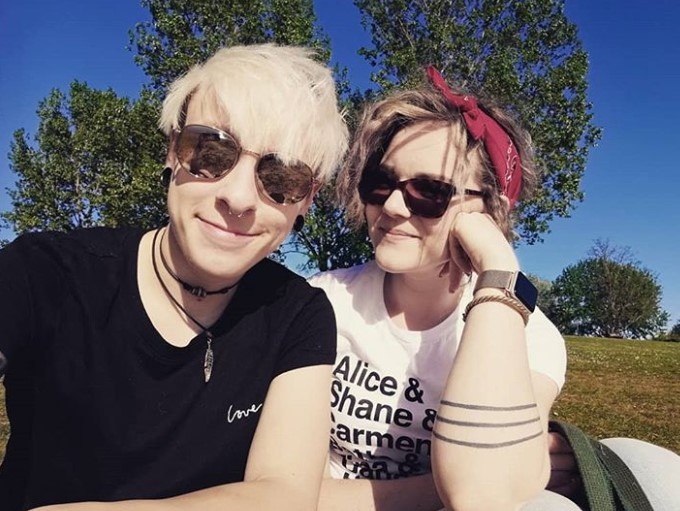face_no_mask: (166, 56, 310, 286), (348, 100, 503, 285)
